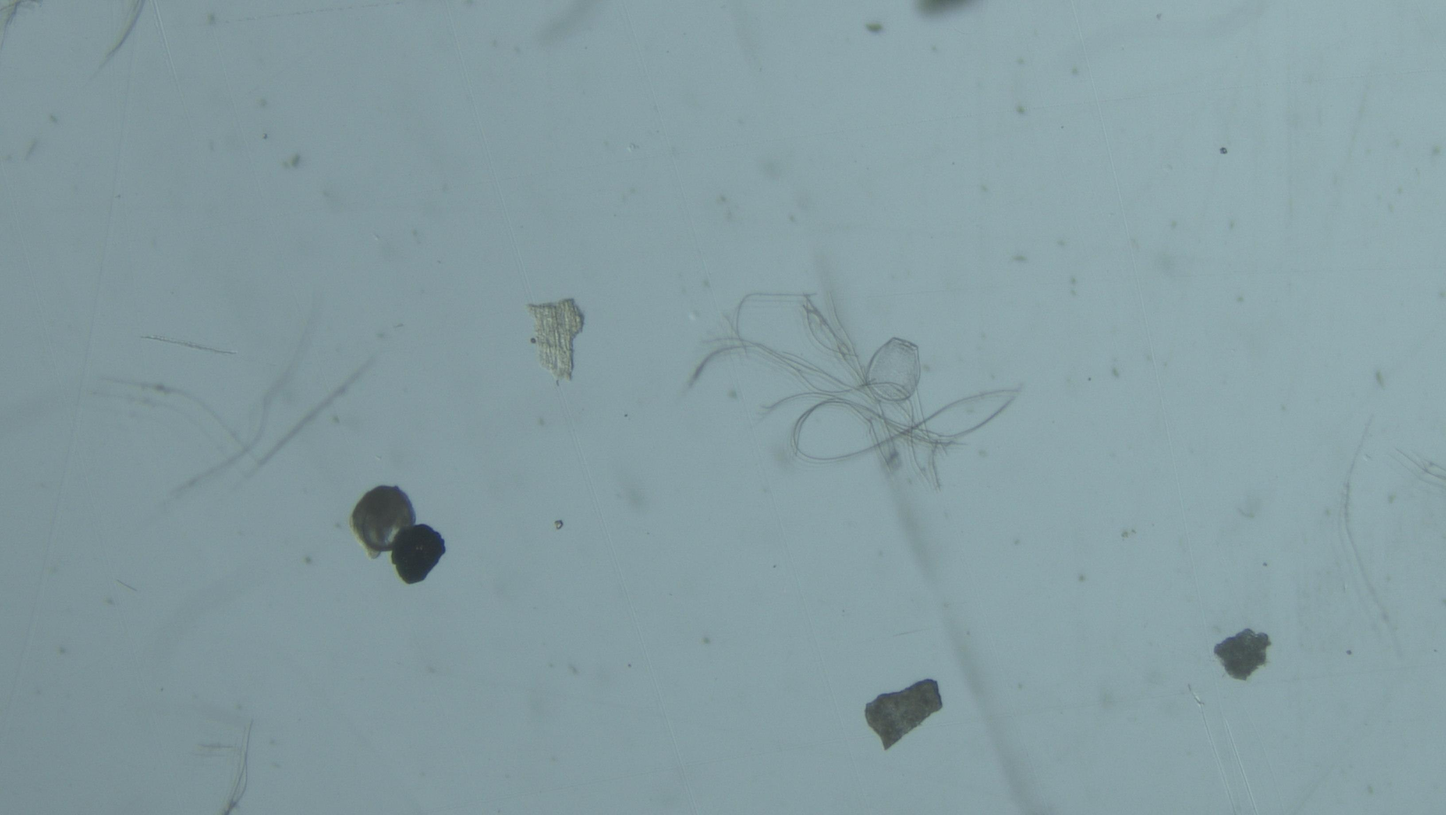dead: (862, 338, 921, 402)
live: (350, 485, 416, 559)
